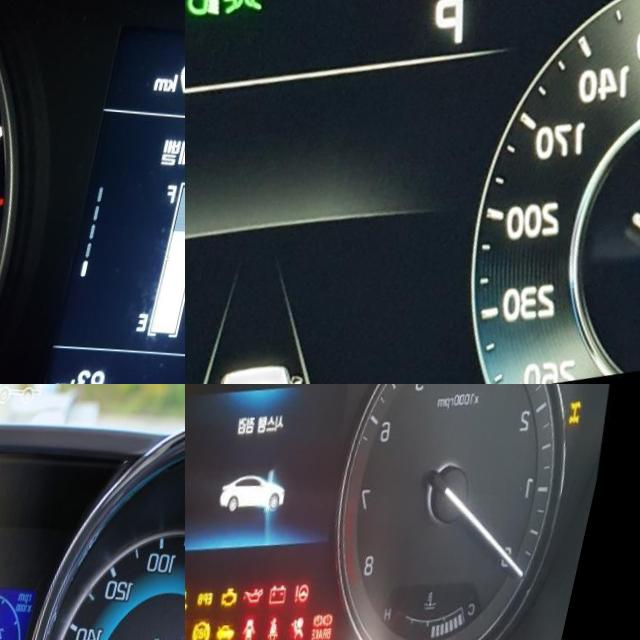Doors: (263, 611, 282, 640)
Low beam: (193, 0, 238, 20)
SideLamp: (229, 0, 284, 16)
